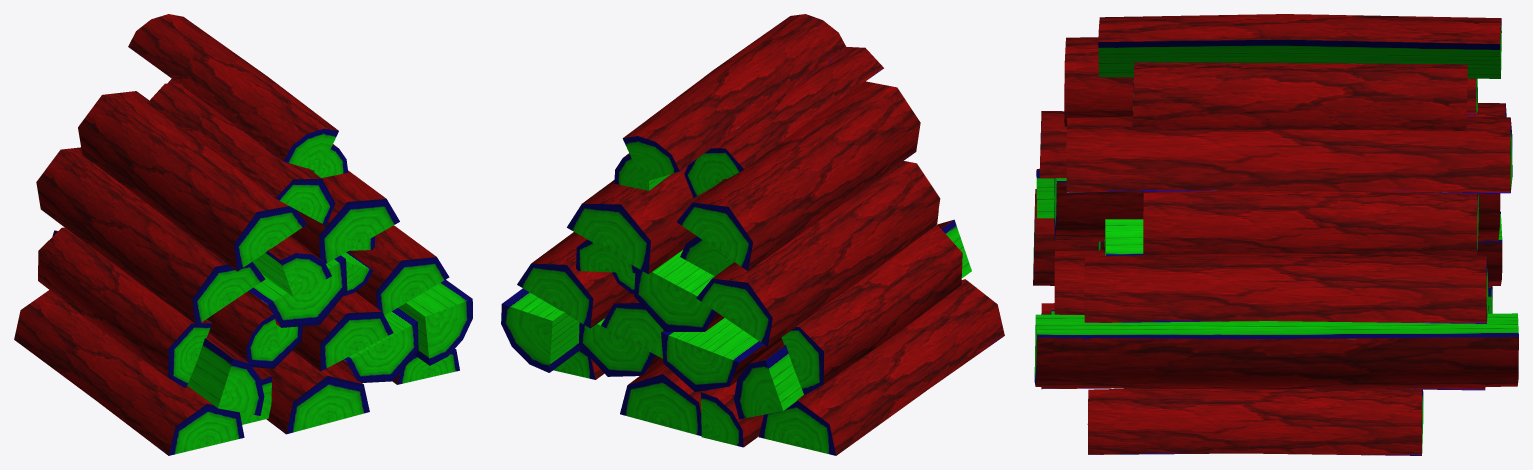
The model's file is FirewoodPile03.fbx.
3 views of the same model, side by side, from view 1: azimuth 30°, elevation 25°; view 2: azimuth 150°, elevation 25°; view 3: azimuth 270°, elevation 25° (orthographic). The views are drawn at different scales.
Visible parts, largest first — view 1: FirewoodPile03_LOD0; view 2: FirewoodPile03_LOD0; view 3: FirewoodPile03_LOD0.
Part boxes in pixels (x1=…): FirewoodPile03_LOD0: x1=14, y1=14, x2=472, y2=455; FirewoodPile03_LOD0: x1=501, y1=14, x2=1004, y2=455; FirewoodPile03_LOD0: x1=1033, y1=14, x2=1518, y2=455.
Size of what is drawn, in the model's own units: 0.8871 by 0.7742 by 0.9583.
